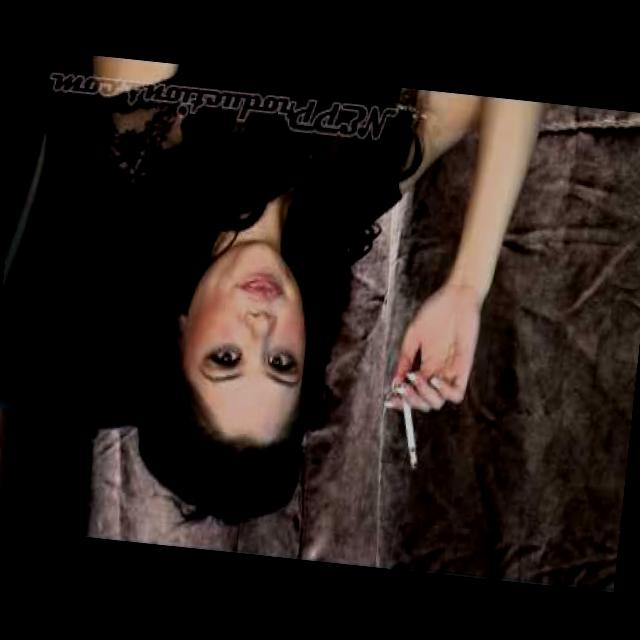cigarette: (388, 378, 433, 495)
